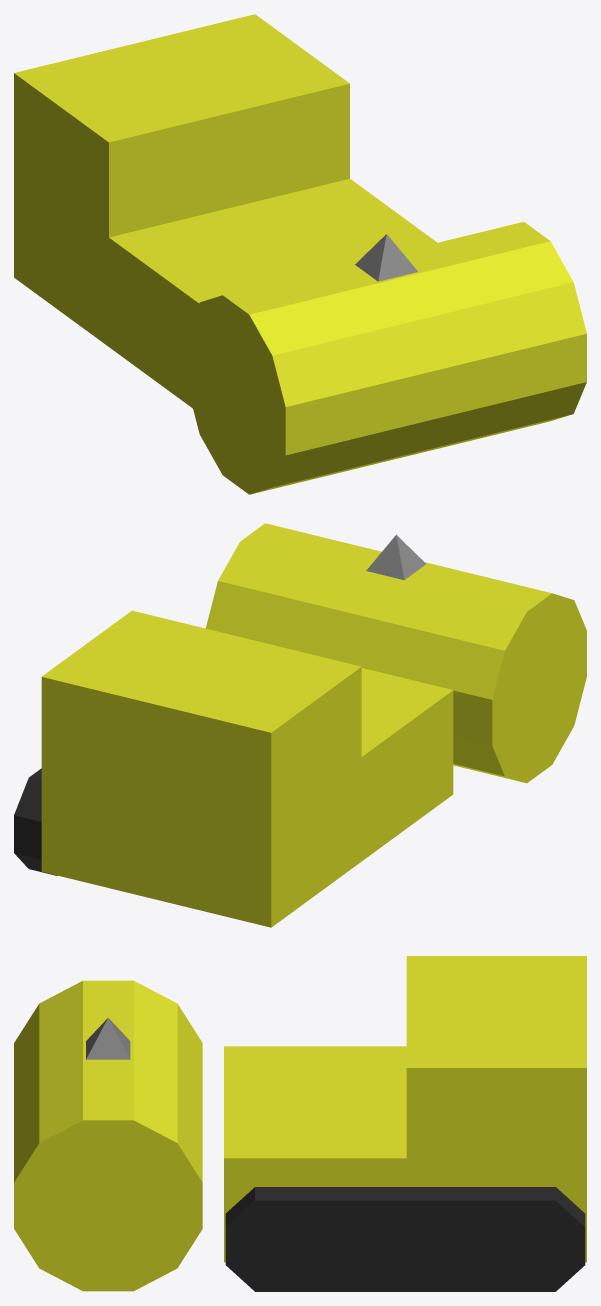
The model's file is mower.glb.
The picture shows the model from 3 angles, top to bottom: view 1: azimuth 30°, elevation 25°; view 2: azimuth 150°, elevation 25°; view 3: azimuth 270°, elevation 25°; orthographic projection. The views are drawn at different scales.
Visible parts, largest first — view 1: Body, Grindr, Spike; view 2: Body, Grindr, Wheels, Spike; view 3: Body, Grindr, Wheels, Spike.
Boxes of the visible parts, x1,y1,x2,y2 form: Body: (14,14,437,408); Grindr: (186,222,586,494); Spike: (355,234,417,281); Body: (41,610,453,927); Grindr: (205,523,586,783); Wheels: (14,768,57,875); Spike: (366,534,425,580); Body: (224,956,586,1262); Grindr: (14,980,202,1291); Wheels: (225,1187,585,1291); Spike: (86,1018,130,1059).
Bounding box in the file's own units: 2 × 1.4 × 3.47.
